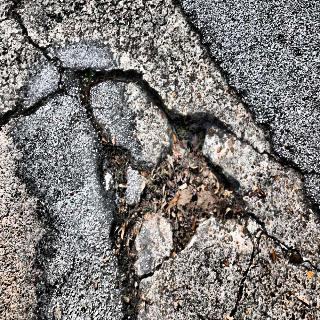crack: (207, 112, 299, 171), (245, 205, 320, 276), (11, 6, 66, 73), (1, 88, 78, 135), (225, 246, 259, 318)
pothole: (72, 64, 244, 320)
